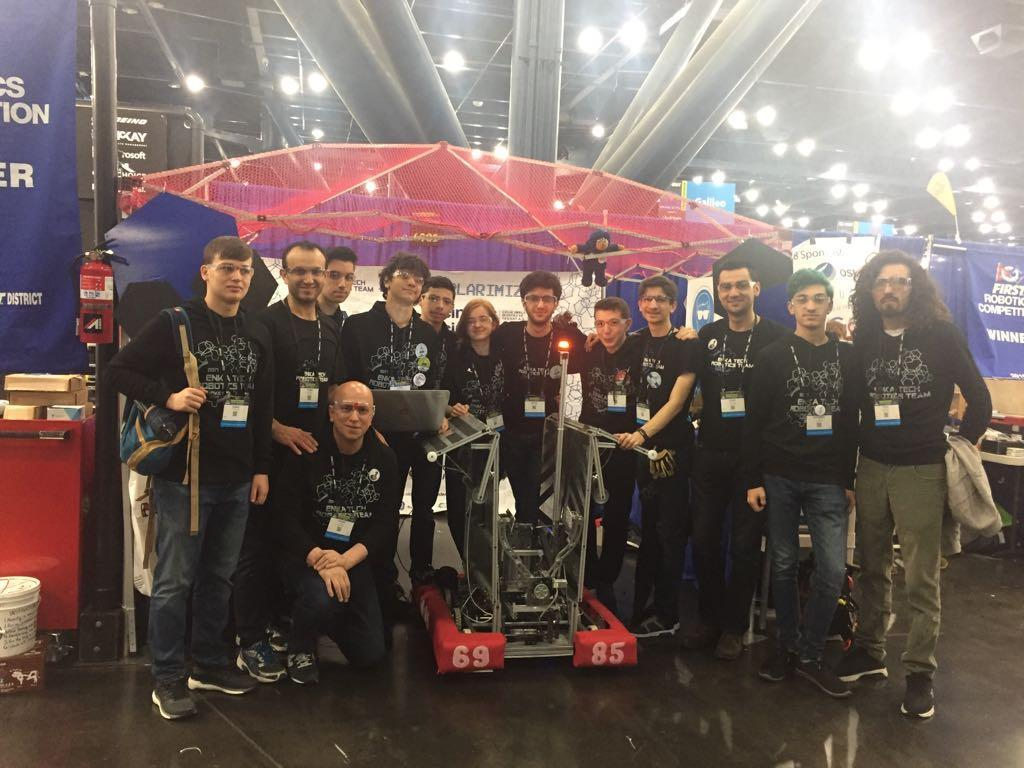robot: (406, 339, 662, 686)
